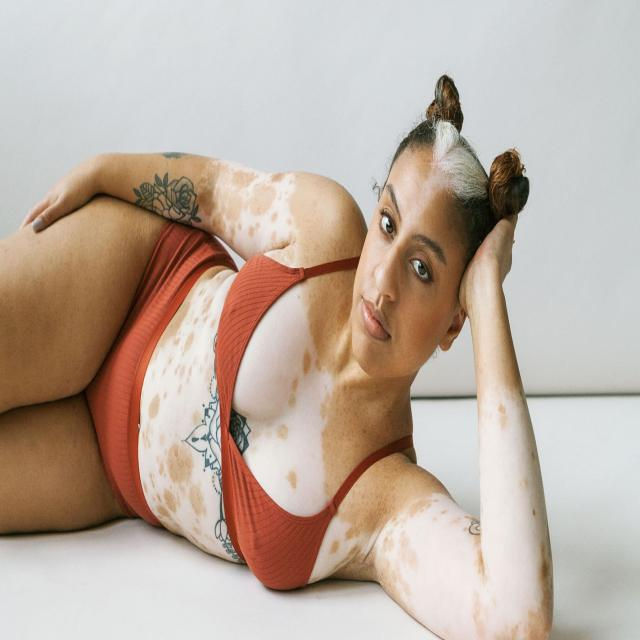vitiligo: (135, 277, 406, 572), (412, 500, 550, 640), (460, 300, 537, 526), (190, 166, 326, 266), (419, 112, 491, 240)
